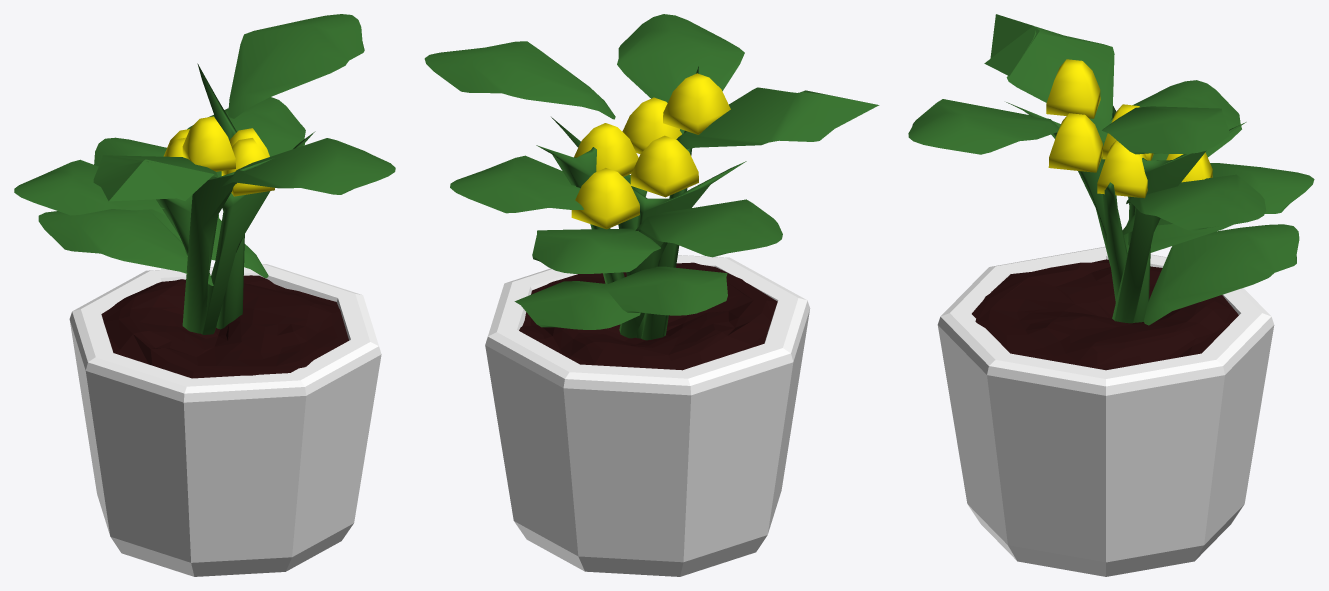
Rendered from akarakara.glb.
3 renders of one model, left to right at view 1: azimuth 30°, elevation 25°; view 2: azimuth 150°, elevation 25°; view 3: azimuth 270°, elevation 25°, orthographic. The views are drawn at different scales.
Parts seen in each view (by area): view 1: akarakara; view 2: akarakara; view 3: akarakara.
Boxes of the visible parts, x1=… form: akarakara: x1=14, y1=14, x2=395, y2=576; akarakara: x1=424, y1=14, x2=879, y2=576; akarakara: x1=908, y1=14, x2=1314, y2=576.
Bounding box in the file's own units: 1.69 × 2.17 × 1.68.
